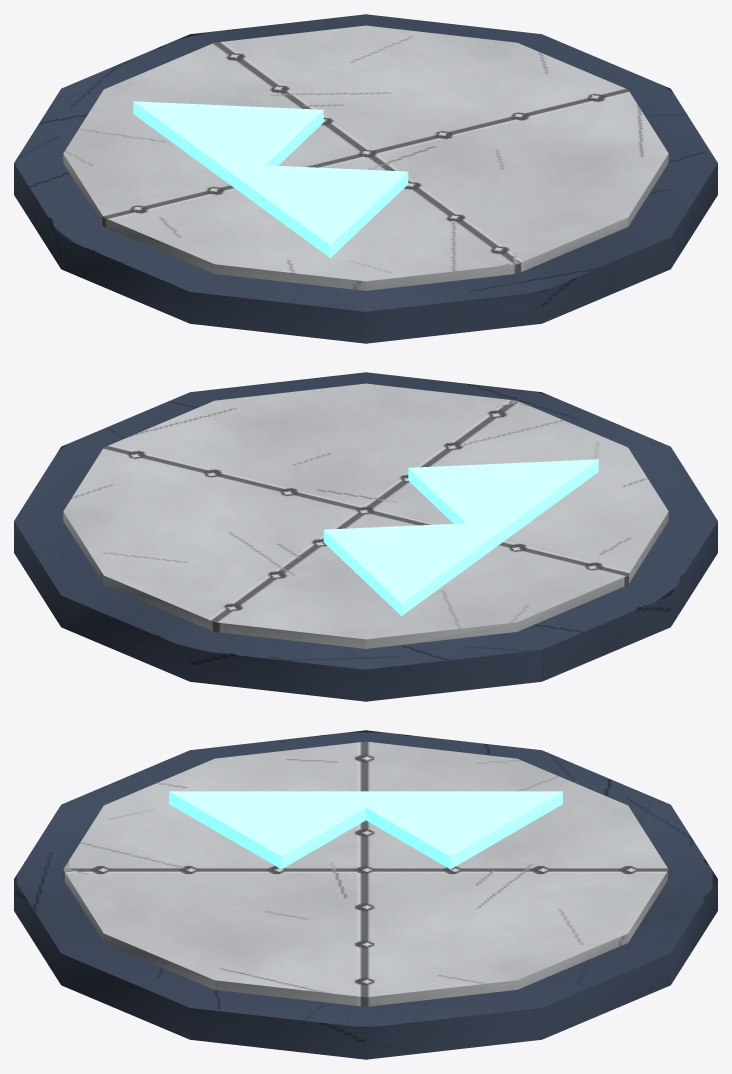
File: floor_route_marker.glb
3 renders of one model, top to bottom at view 1: azimuth 30°, elevation 25°; view 2: azimuth 150°, elevation 25°; view 3: azimuth 270°, elevation 25°, orthographic.
Visible parts, largest first — view 1: DL017_FloorRouteMarker_hull_offwhite, DL017_FloorRouteMarker_graphite_navy, DL017_FloorRouteMarker_emissive_cyan; view 2: DL017_FloorRouteMarker_hull_offwhite, DL017_FloorRouteMarker_graphite_navy, DL017_FloorRouteMarker_emissive_cyan; view 3: DL017_FloorRouteMarker_hull_offwhite, DL017_FloorRouteMarker_graphite_navy, DL017_FloorRouteMarker_emissive_cyan.
Part boxes in pixels (bbox=[...]): DL017_FloorRouteMarker_hull_offwhite: bbox=[63, 25, 668, 290]; DL017_FloorRouteMarker_graphite_navy: bbox=[14, 14, 717, 343]; DL017_FloorRouteMarker_emissive_cyan: bbox=[133, 101, 408, 257]; DL017_FloorRouteMarker_hull_offwhite: bbox=[63, 383, 668, 648]; DL017_FloorRouteMarker_graphite_navy: bbox=[14, 372, 717, 701]; DL017_FloorRouteMarker_emissive_cyan: bbox=[323, 459, 598, 615]; DL017_FloorRouteMarker_hull_offwhite: bbox=[63, 741, 668, 1006]; DL017_FloorRouteMarker_graphite_navy: bbox=[14, 730, 717, 1059]; DL017_FloorRouteMarker_emissive_cyan: bbox=[169, 791, 562, 869].
Bounding box in the file's own units: 1 × 0.085 × 1.
Materials: 3 (2 with a texture image).
